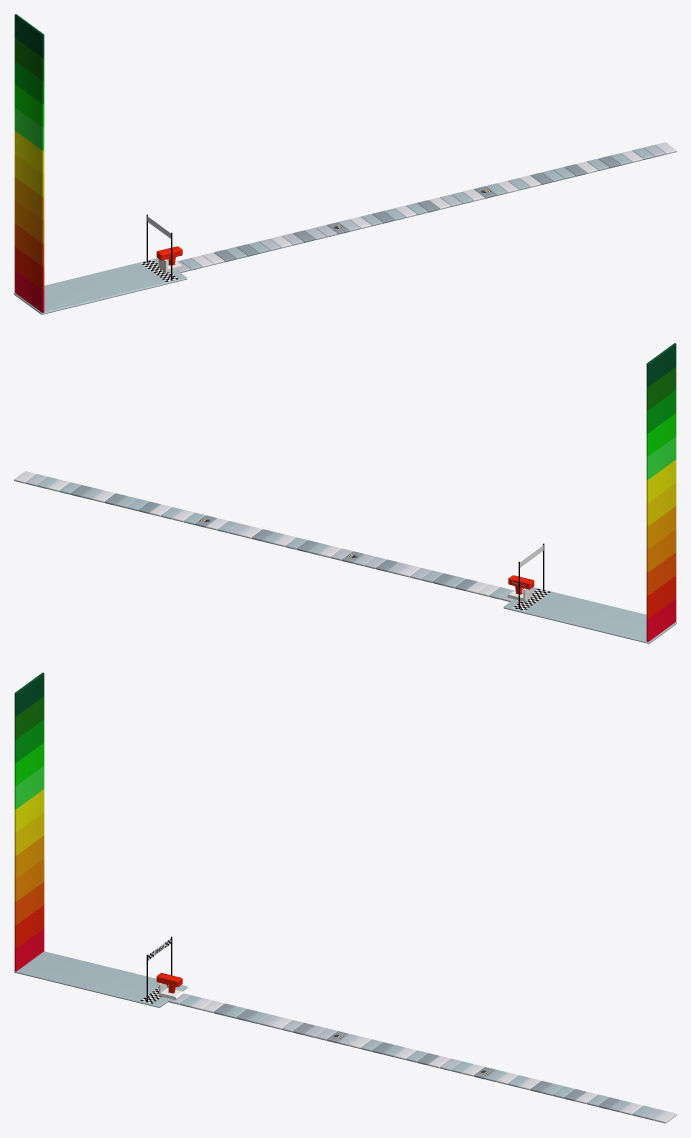
File: Environment.fbx
3 views of the same model, one above another, from view 1: azimuth 30°, elevation 25°; view 2: azimuth 150°, elevation 25°; view 3: azimuth 330°, elevation 25° (orthographic).
Visible parts, largest first — view 1: Path.001, Path.054, Path.049, Path.044, Path.047, Path.045, Path.046, Path.050, Path.051, Path.052, Path.043, Path.048 (+2 smaller); view 2: Path.001, Path.054, Path.049, Path.044, Path.047, Path.045, Path.046, Path.050, Path.051, Path.052, Path.043, Path.048 (+2 smaller); view 3: Path.001, Path.054, Path.046, Path.047, Path.048, Path.049, Path.051, Path.043, Path.052, Path.053, Path.044, Path.045 (+1 smaller).
Part boxes in pixels (x1=…): Path.001: x1=14, y1=214, x2=201, y2=314; Path.054: x1=14, y1=14, x2=44, y2=57; Path.049: x1=14, y1=130, x2=44, y2=173; Path.044: x1=14, y1=246, x2=44, y2=289; Path.047: x1=14, y1=177, x2=44, y2=220; Path.045: x1=14, y1=223, x2=44, y2=266; Path.046: x1=14, y1=200, x2=44, y2=243; Path.050: x1=14, y1=107, x2=44, y2=150; Path.051: x1=14, y1=84, x2=44, y2=127; Path.052: x1=14, y1=61, x2=44, y2=104; Path.043: x1=14, y1=270, x2=44, y2=312; Path.048: x1=14, y1=154, x2=44, y2=196; Path.001: x1=489, y1=543, x2=676, y2=643; Path.054: x1=646, y1=343, x2=676, y2=386; Path.049: x1=646, y1=459, x2=676, y2=502; Path.044: x1=646, y1=575, x2=676, y2=618; Path.047: x1=646, y1=506, x2=676, y2=549; Path.045: x1=646, y1=552, x2=676, y2=595; Path.046: x1=646, y1=529, x2=676, y2=572; Path.050: x1=646, y1=436, x2=676, y2=479; Path.051: x1=646, y1=413, x2=676, y2=456; Path.052: x1=646, y1=390, x2=676, y2=433; Path.043: x1=646, y1=599, x2=676, y2=641; Path.048: x1=646, y1=483, x2=676, y2=525; Path.001: x1=14, y1=936, x2=201, y2=1007; Path.054: x1=14, y1=672, x2=44, y2=716; Path.046: x1=14, y1=859, x2=44, y2=901; Path.047: x1=14, y1=835, x2=44, y2=878; Path.048: x1=14, y1=812, x2=44, y2=855; Path.049: x1=14, y1=789, x2=44, y2=832; Path.051: x1=14, y1=743, x2=44, y2=785; Path.043: x1=14, y1=928, x2=44, y2=971; Path.052: x1=14, y1=719, x2=44, y2=762; Path.053: x1=14, y1=696, x2=44, y2=739; Path.044: x1=14, y1=905, x2=44, y2=948; Path.045: x1=14, y1=882, x2=44, y2=924.
Bounding box in the file's own units: 48.45 × 20.16 × 3.69.
Materials: 19 (1 with a texture image).
